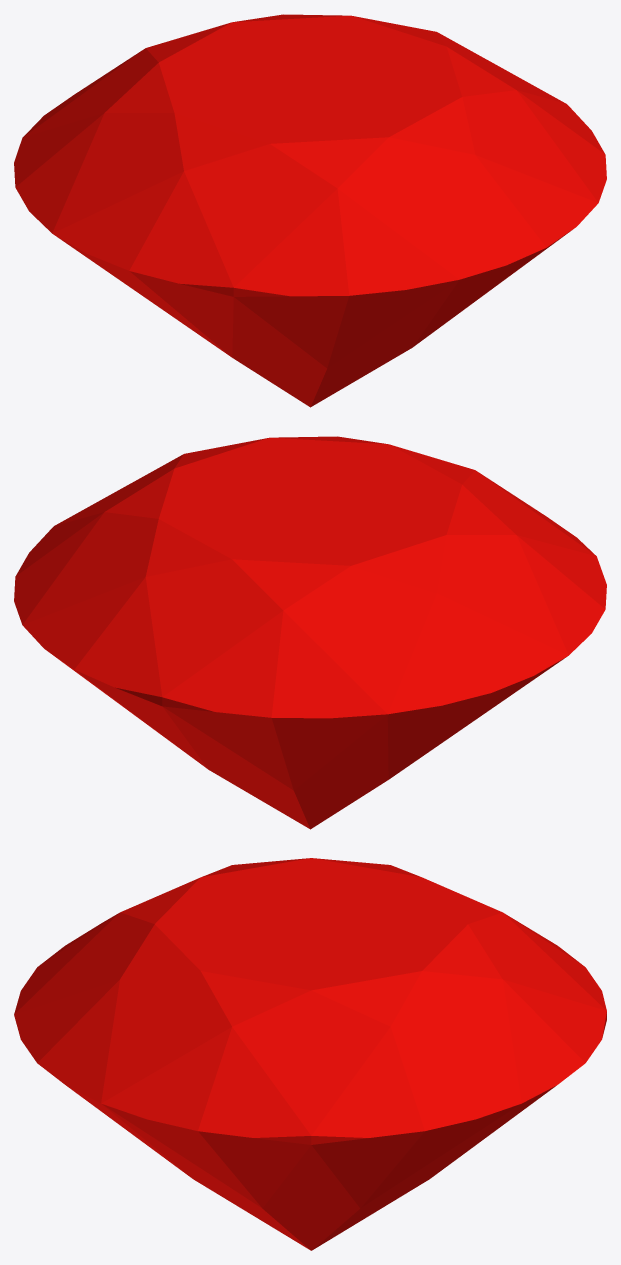
File: Punkt2.fbx
3 views of the same model, one above another, from view 1: azimuth 30°, elevation 25°; view 2: azimuth 150°, elevation 25°; view 3: azimuth 270°, elevation 25° (orthographic).
Visible parts, largest first — view 1: dobj; view 2: dobj; view 3: dobj.
Part boxes in pixels (x1,y1,x2,y2): dobj: (14,14,606,407); dobj: (14,436,606,829); dobj: (14,858,606,1250).
Size of the model in its own units: 201 by 122 by 201.
